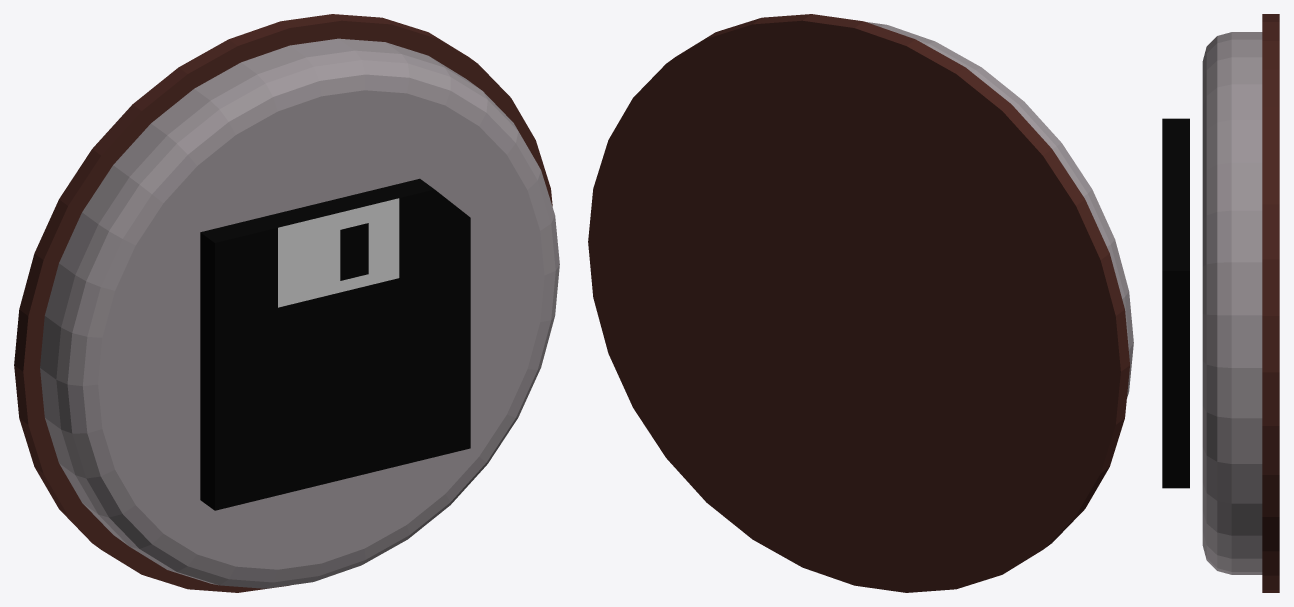
File: SaveButton.glb
3 views of the same model, side by side, from view 1: azimuth 30°, elevation 25°; view 2: azimuth 150°, elevation 25°; view 3: azimuth 270°, elevation 25° (orthographic). The views are drawn at different scales.
Parts seen in each view (by area): view 1: Cylinder.010, Cube.005; view 2: Cylinder.010; view 3: Cylinder.010, Cube.005.
Boxes of the visible parts, left/top/right/bottom form: Cylinder.010: left=14, top=14, right=559, bottom=592; Cube.005: left=200, top=178, right=470, bottom=510; Cylinder.010: left=588, top=14, right=1133, bottom=592; Cylinder.010: left=1202, top=14, right=1279, bottom=592; Cube.005: left=1162, top=118, right=1189, bottom=488.
Size of the model in its own units: 1 by 1 by 0.2027.
